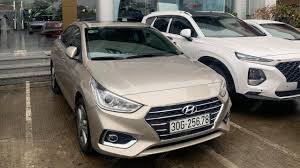Car number plates: (168, 114, 210, 133)
